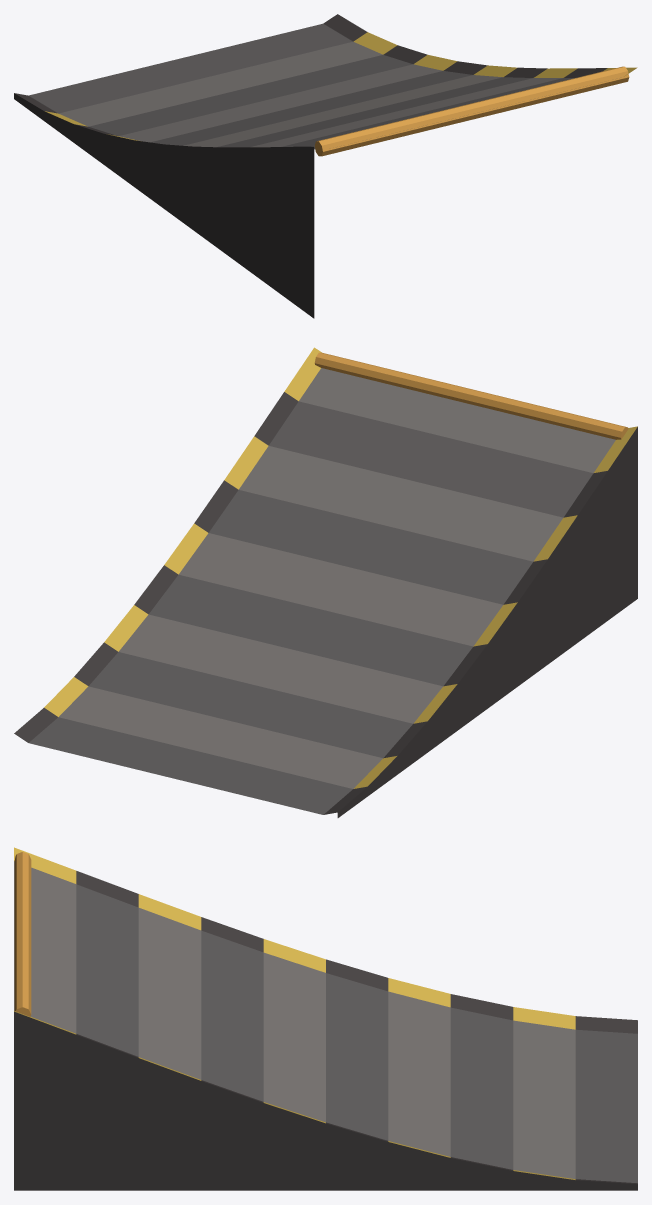
The model's file is rn2-forja-ramp.glb.
The picture shows the model from 3 angles, top to bottom: view 1: azimuth 30°, elevation 25°; view 2: azimuth 150°, elevation 25°; view 3: azimuth 270°, elevation 25°; orthographic projection. The views are drawn at different scales.
Visible parts, largest first — view 1: rn2_forja_ramp_body, rn2_forja_ramp_glow; view 2: rn2_forja_ramp_body, rn2_forja_ramp_glow; view 3: rn2_forja_ramp_body, rn2_forja_ramp_glow.
Boxes of the visible parts, x1,y1,x2,y2 form: rn2_forja_ramp_body: (14, 14, 637, 318); rn2_forja_ramp_glow: (314, 66, 629, 156); rn2_forja_ramp_body: (14, 347, 637, 817); rn2_forja_ramp_glow: (314, 352, 628, 439); rn2_forja_ramp_body: (14, 847, 637, 1190); rn2_forja_ramp_glow: (14, 852, 31, 1016).
Bounding box in the file's own units: 2.24 × 1.14 × 3.6.
